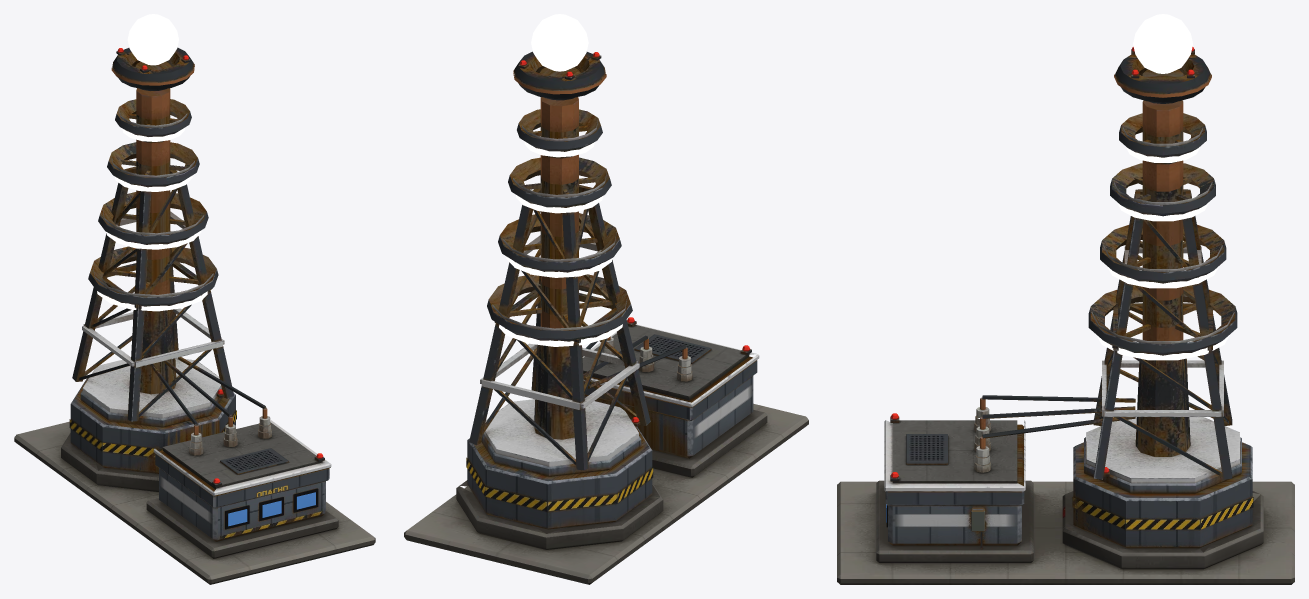
The model's file is tsla.soviet.glb.
The picture shows the model from 3 angles, left to right: view 1: azimuth 30°, elevation 25°; view 2: azimuth 150°, elevation 25°; view 3: azimuth 270°, elevation 25°; orthographic projection. The views are drawn at different scales.
Visible parts, largest first — view 1: root_mesh; view 2: root_mesh; view 3: root_mesh.
Part boxes in pixels (x1,y1,x2,y2): root_mesh: (14,14,375,584); root_mesh: (404,14,808,584); root_mesh: (837,14,1294,584).
Bounding box in the file's own units: 0.98 × 2.49 × 1.98.
Materials: 3 (1 with a texture image).
